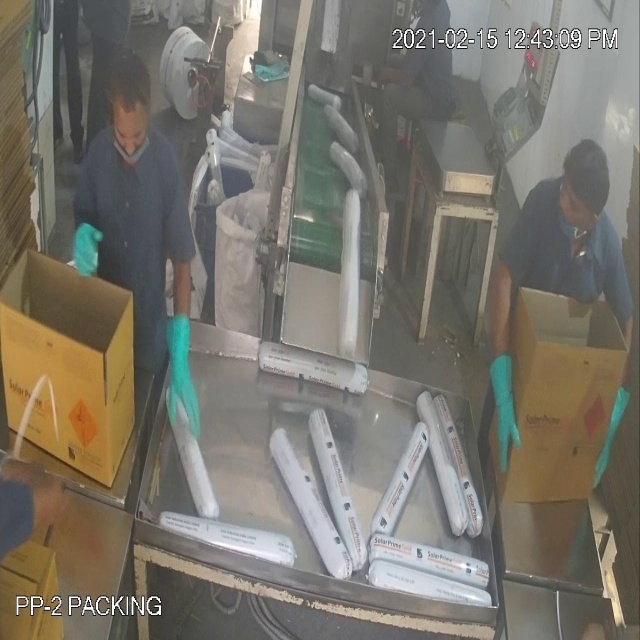Guantes: (151, 294, 203, 450), (488, 340, 535, 484), (53, 196, 117, 289)
Sin_guantes: (361, 60, 410, 92)
